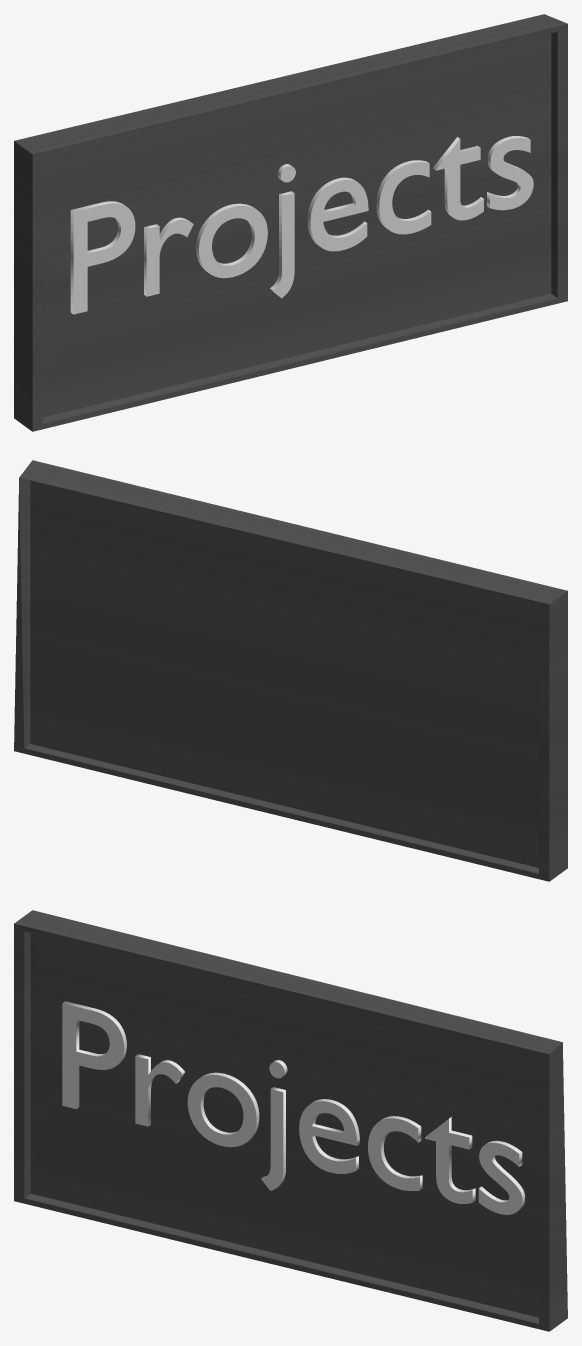
The model's file is Projects.glb.
The picture shows the model from 3 angles, top to bottom: view 1: azimuth 30°, elevation 25°; view 2: azimuth 150°, elevation 25°; view 3: azimuth 330°, elevation 25°; orthographic projection.
Visible parts, largest first — view 1: Cube, Text; view 2: Cube; view 3: Cube, Text.
Boxes of the visible parts, x1=… form: Cube: x1=14, y1=14, x2=567, y2=431; Text: x1=70, y1=136, x2=533, y2=314; Cube: x1=14, y1=460, x2=567, y2=881; Cube: x1=14, y1=910, x2=567, y2=1331; Text: x1=62, y1=1001, x2=525, y2=1214.
Size of the model in its own units: 304 by 151 by 18.22.
Materials: 1 (1 with a texture image).
